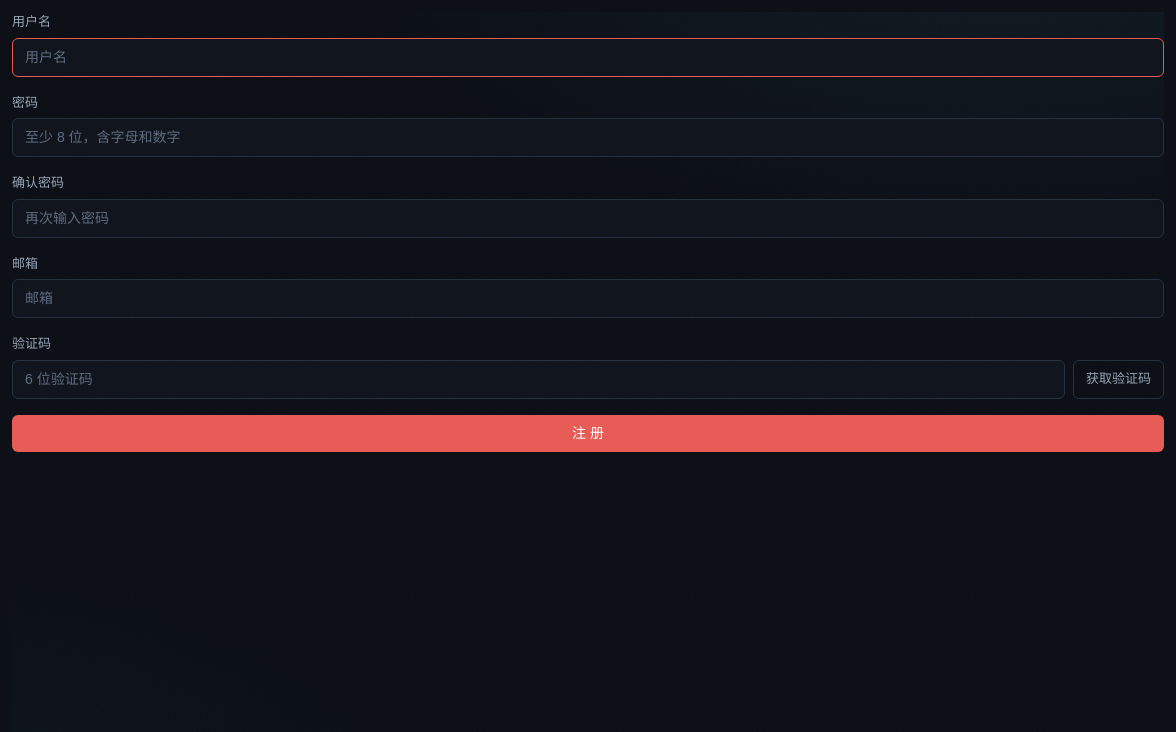
Test: RegisterForm › 两次密码不一致时报错
Type "newbie" into the field with placeholder "用户名" at point(588, 57), box left=12, top=38, right=1164, bottom=76
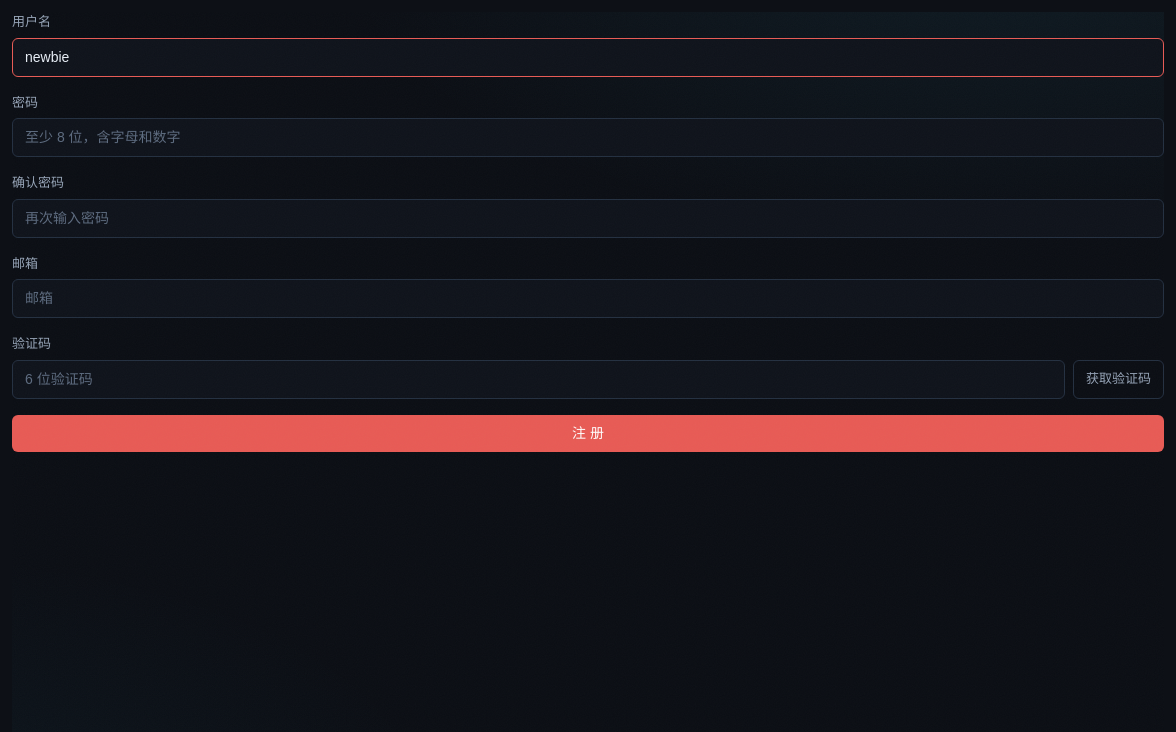
Type "passw0rd" into the password field with placeholder "至少 8 位，含字母和数字" at point(588, 138), box left=12, top=118, right=1164, bottom=157
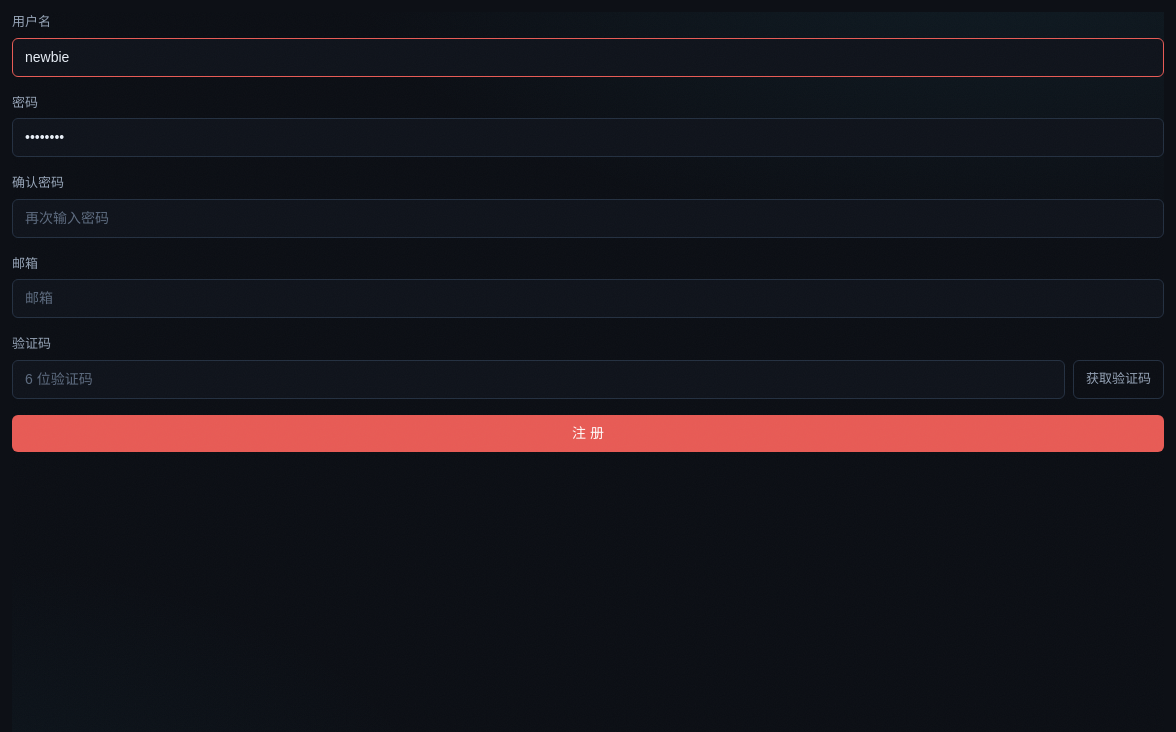
Type "passw0rdX" into the password field with placeholder "再次输入密码" at point(588, 218), box left=12, top=198, right=1164, bottom=238
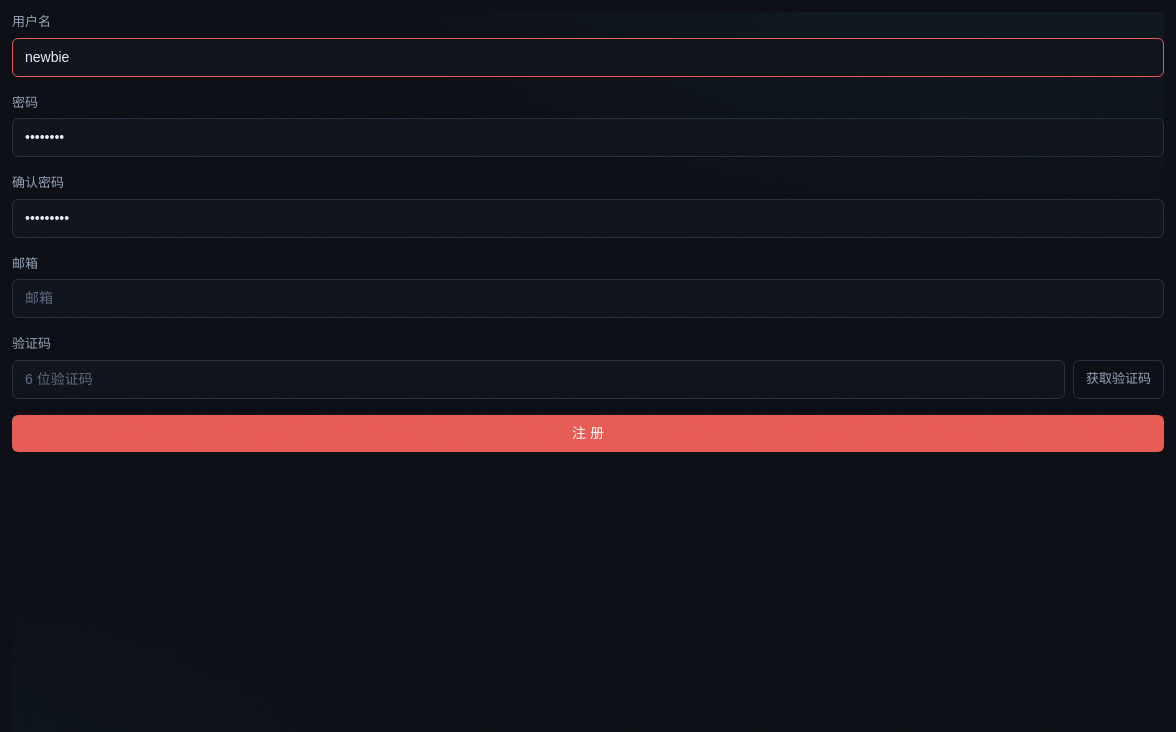
Click the button "注 册" at point(588, 433), box left=12, top=414, right=1164, bottom=452
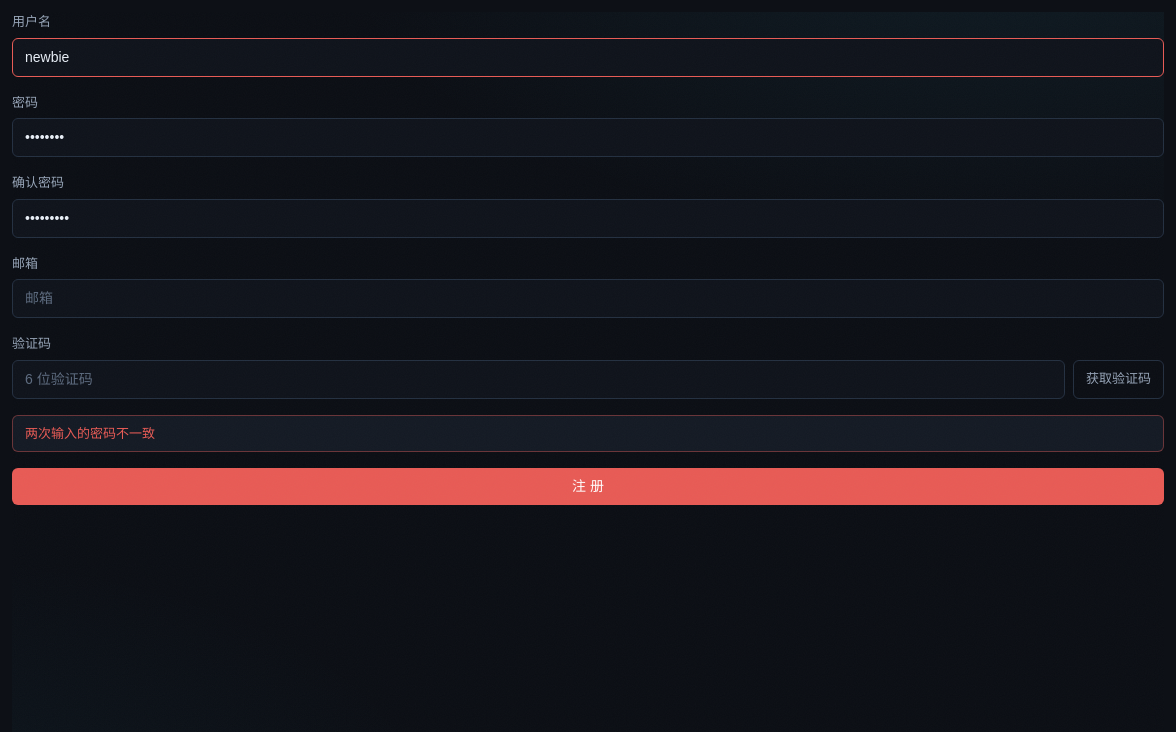
Check: the message reads "两次输入的密码不一致", box left=25, top=426, right=155, bottom=440
